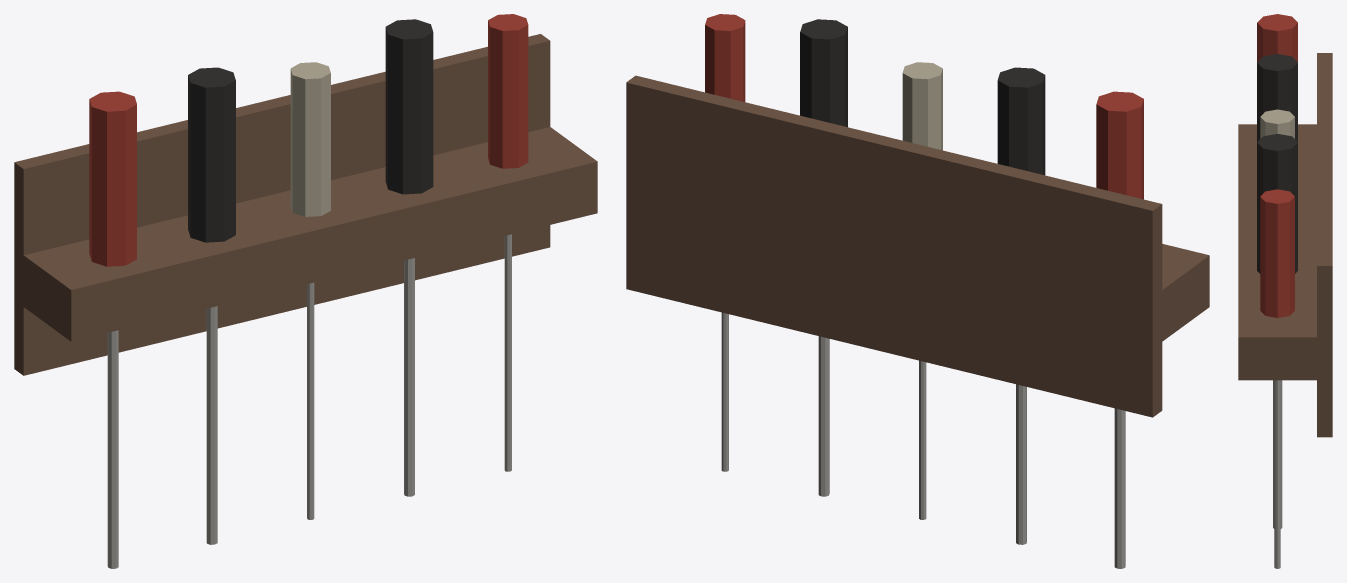
File: screwdriver-rack.glb
3 views of the same model, side by side, from view 1: azimuth 30°, elevation 25°; view 2: azimuth 150°, elevation 25°; view 3: azimuth 270°, elevation 25° (orthographic). The views are drawn at different scales.
Visible parts, largest first — view 1: wood, plastic-dark, accent-warm, brushed, plastic-light; view 2: wood, plastic-dark, accent-warm, brushed, plastic-light; view 3: wood, accent-warm, plastic-dark, brushed, plastic-light.
Boxes of the visible parts, bbox=[...] form: wood: bbox=[14, 34, 597, 375]; plastic-dark: bbox=[188, 19, 433, 242]; accent-warm: bbox=[89, 14, 528, 266]; brushed: bbox=[107, 234, 511, 568]; plastic-light: bbox=[290, 62, 330, 216]; wood: bbox=[626, 75, 1209, 417]; plastic-dark: bbox=[800, 19, 1045, 175]; accent-warm: bbox=[705, 14, 1143, 199]; brushed: bbox=[721, 312, 1125, 568]; plastic-light: bbox=[902, 62, 942, 150]; wood: bbox=[1238, 53, 1332, 437]; accent-warm: bbox=[1257, 14, 1297, 317]; plastic-dark: bbox=[1257, 54, 1297, 273]; brushed: bbox=[1273, 380, 1282, 568]; plastic-light: bbox=[1260, 109, 1294, 138].
Size of the model in its own units: 0.32 by 0.27 by 0.06.
